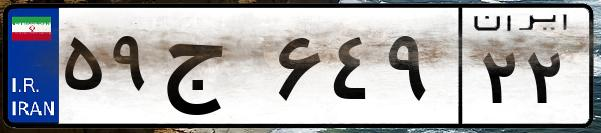2: (475, 38, 525, 113), (525, 38, 570, 115)
4: (330, 28, 385, 110)
5: (57, 26, 110, 100)
6: (270, 28, 330, 110)
9: (385, 28, 445, 110), (110, 28, 158, 98)
ج: (158, 20, 270, 120)
